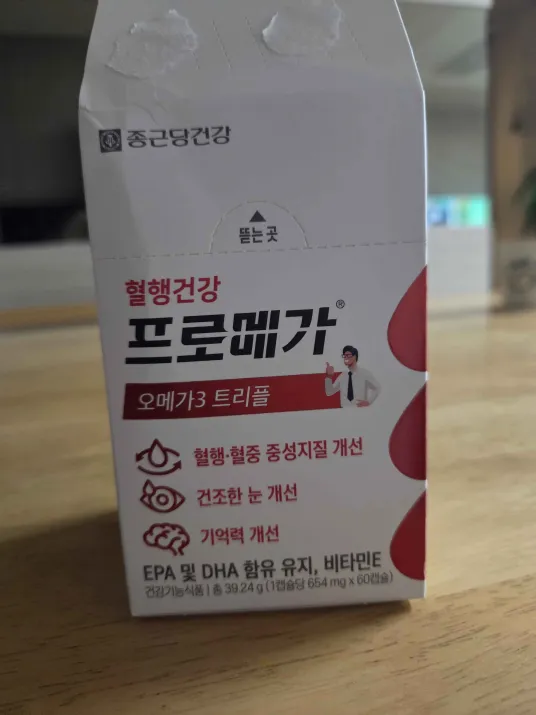supplement_label: (94, 125, 435, 622)
